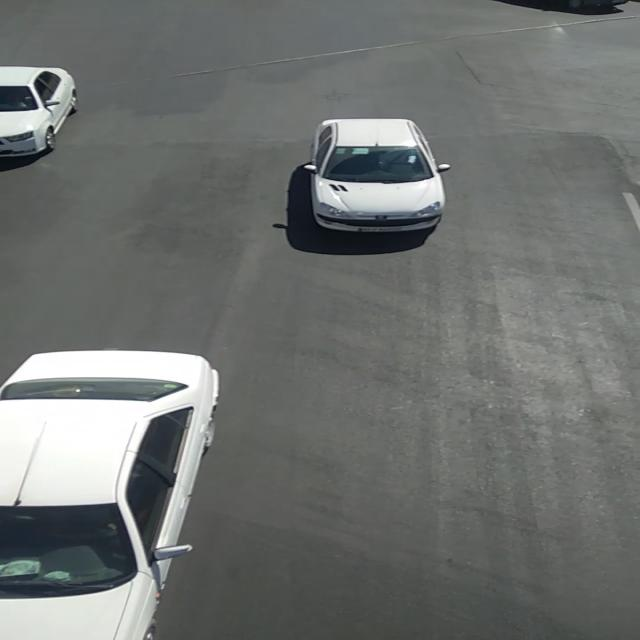car: (2, 347, 224, 637), (301, 116, 454, 232), (1, 65, 78, 160)
